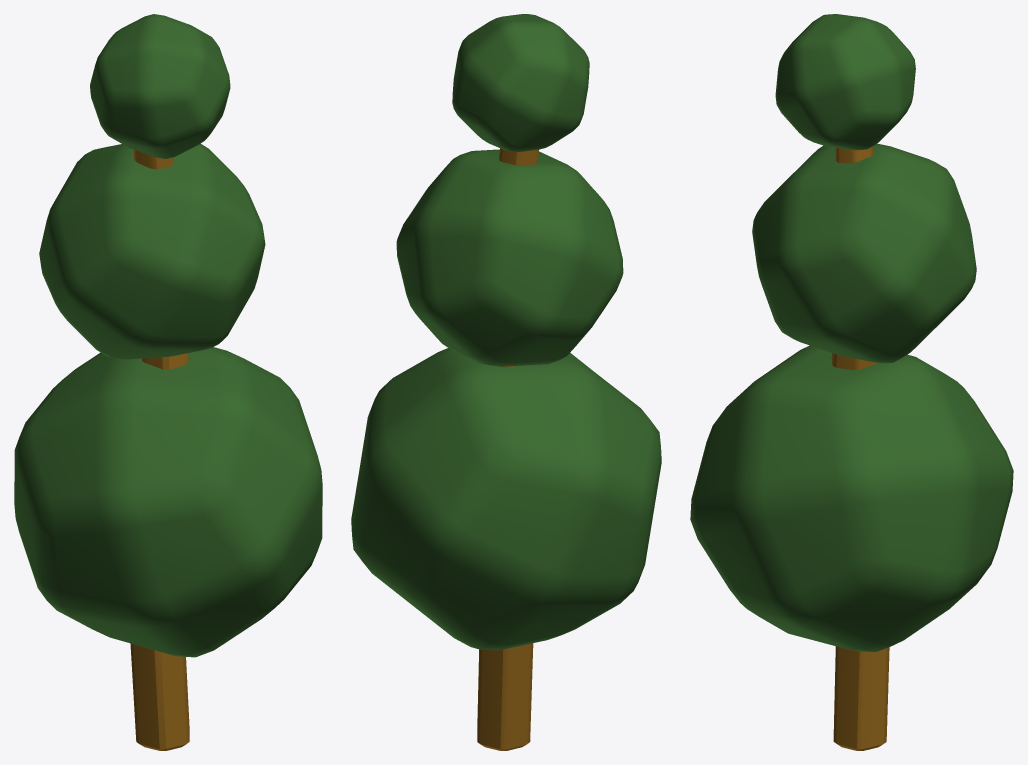
Rendered from Tree_03.glb.
3 renders of one model, left to right at view 1: azimuth 30°, elevation 25°; view 2: azimuth 150°, elevation 25°; view 3: azimuth 270°, elevation 25°, orthographic.
Visible parts, largest first — view 1: Tree_V3; view 2: Tree_V3; view 3: Tree_V3.
Part boxes in pixels (x1,y1,x2,y2): Tree_V3: (14, 14, 322, 750); Tree_V3: (351, 14, 661, 750); Tree_V3: (690, 14, 1013, 750).
Size of the model in its own units: 5.05 by 12.97 by 5.3.
